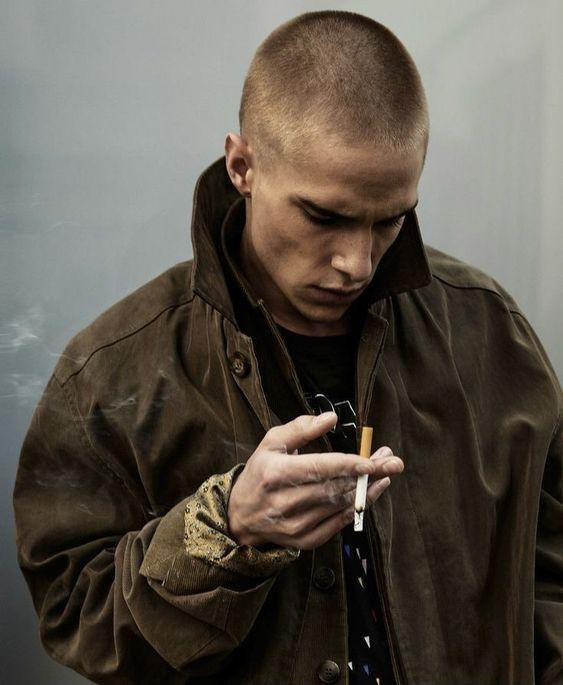cigarette: (353, 427, 373, 532)
